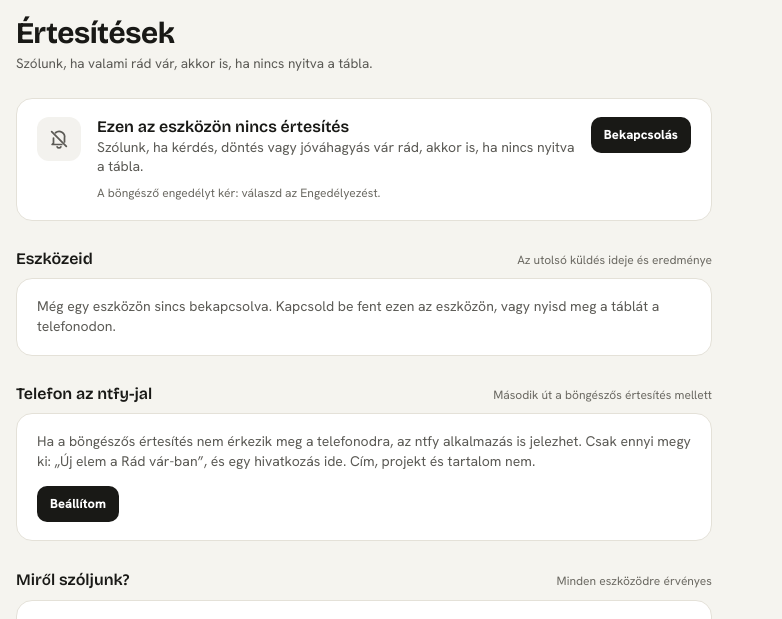
Test: this device › subscribes anew once when the browser still carries another person’s endpoint
Click the button "Bekapcsolás" at (641, 135), box [591,117,691,153]
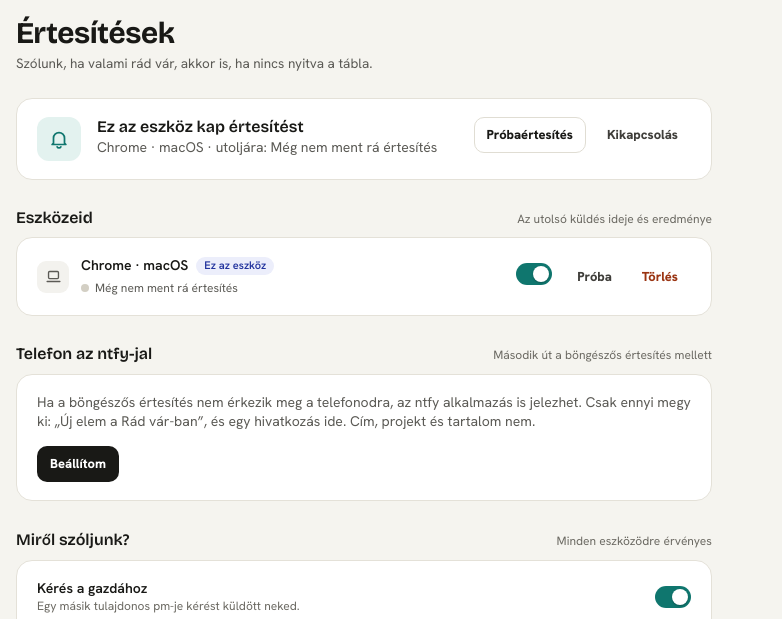
Result: the text "Ez az eszköz kap értesítést" is shown at [97,117,304,136]
